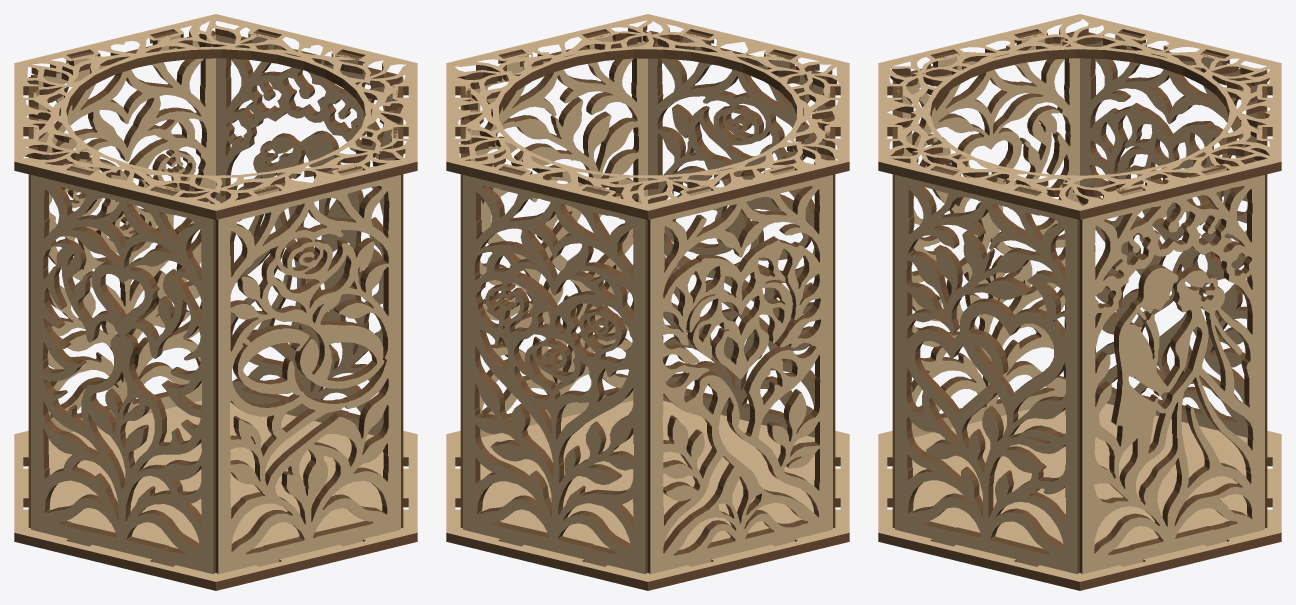
File: lumi-2-svatebni.glb
3 views of the same model, side by side, from view 1: azimuth 30°, elevation 25°; view 2: azimuth 150°, elevation 25°; view 3: azimuth 270°, elevation 25° (orthographic).
Visible parts, largest first — view 1: stena-02, stena-03, vrsek, stena-05, dno, stena-06, stena-01, stena-04; view 2: stena-05, stena-04, vrsek, dno, stena-02, stena-01, stena-03, stena-06; view 3: stena-06, stena-01, vrsek, dno, stena-03, stena-04, stena-02, stena-05.
Part boxes in pixels (x1,y1,x2,y2): stena-02: (216,165,400,574); stena-03: (31,164,215,574); vrsek: (14,14,417,219); stena-05: (31,30,216,432); dno: (14,400,417,590); stena-06: (216,31,396,435); stena-01: (393,77,403,527); stena-04: (28,77,38,527); stena-05: (463,165,647,574); stena-04: (648,165,832,574); vrsek: (446,14,849,219); dno: (446,400,849,590); stena-02: (648,30,825,437); stena-01: (470,31,647,437); stena-03: (825,78,835,527); stena-06: (460,86,470,527); stena-06: (1080,164,1264,574); stena-01: (895,165,1079,574); vrsek: (878,14,1281,219); dno: (878,403,1281,590); stena-03: (899,31,1079,437); stena-04: (1080,31,1257,437); stena-02: (892,80,902,527); stena-05: (1257,82,1267,527).
Bounding box in the file's own units: 0.14 × 0.126 × 0.1212.
